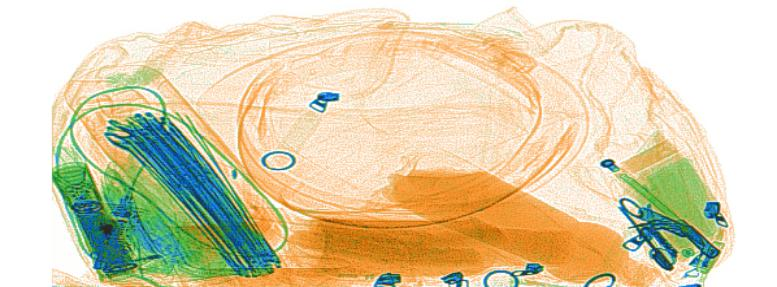battery: (70, 198, 127, 271)
